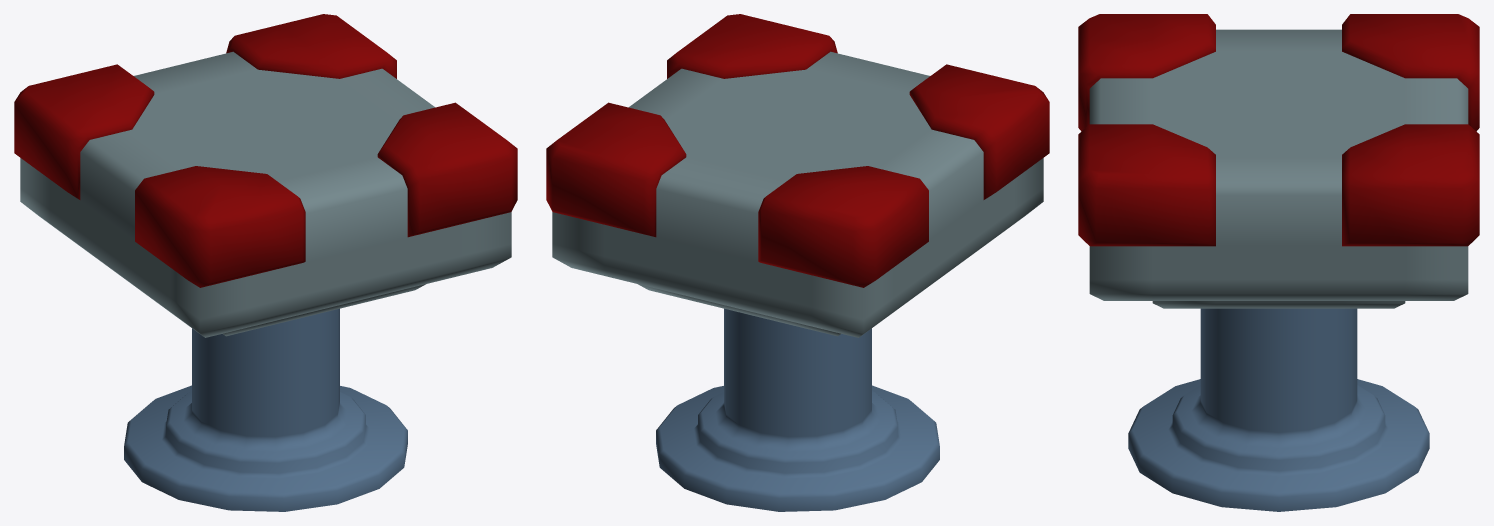
The model's file is SlimyModels_Stations.fbx.
The picture shows the model from 3 angles, left to right: view 1: azimuth 30°, elevation 25°; view 2: azimuth 150°, elevation 25°; view 3: azimuth 270°, elevation 25°; orthographic projection. The views are drawn at different scales.
Parts seen in each view (by area): view 1: CraftingStation; view 2: CraftingStation; view 3: CraftingStation.
Part boxes in pixels (x1,y1,x2,y2): CraftingStation: (14, 14, 517, 511); CraftingStation: (546, 14, 1049, 511); CraftingStation: (1078, 14, 1479, 511).
Bounding box in the file's own units: 1.06 × 1.03 × 1.06.
